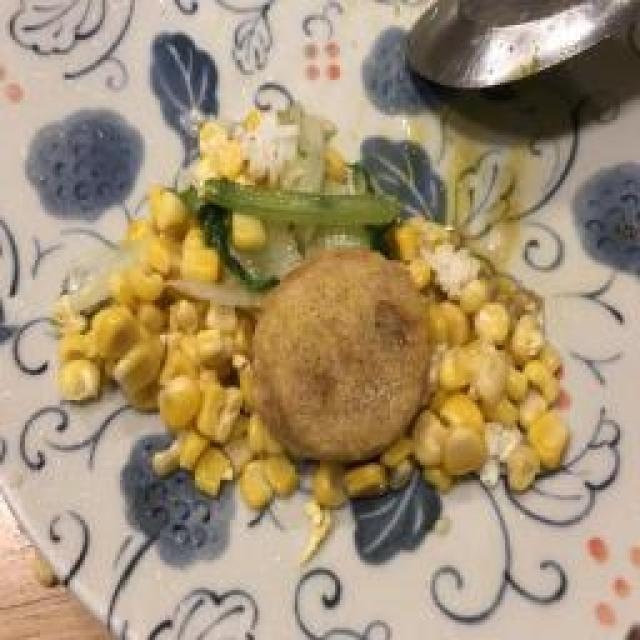chicken_nuggets: (250, 247, 433, 465)
